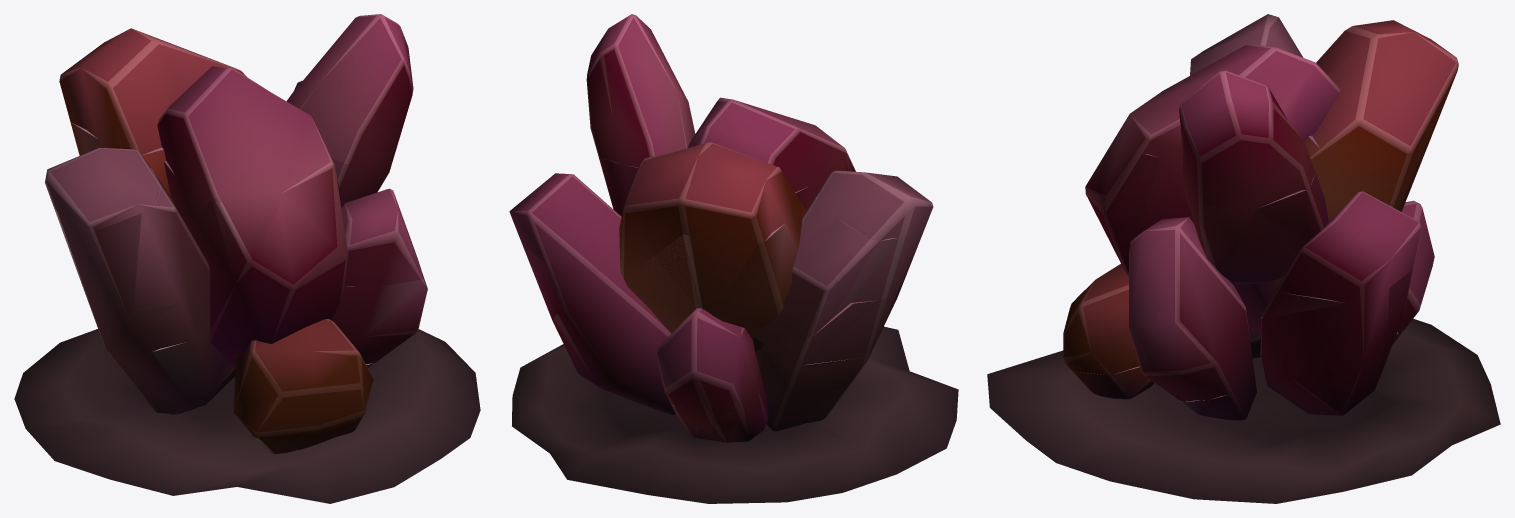
File: Stone_V2_0.fbx
3 renders of one model, left to right at view 1: azimuth 30°, elevation 25°; view 2: azimuth 150°, elevation 25°; view 3: azimuth 270°, elevation 25°, orthographic. The views are drawn at different scales.
Visible parts, largest first — view 1: Stone_V2_0, Stone_V2_1, Stone_V2_2, Stone_V2_3; view 2: Stone_V2_0, Stone_V2_1, Stone_V2_2, Stone_V2_3; view 3: Stone_V2_0, Stone_V2_1, Stone_V2_2, Stone_V2_3.
Boxes of the visible parts, x1,y1,x2,y2 form: Stone_V2_0: [14, 14, 480, 503]; Stone_V2_1: [54, 122, 381, 348]; Stone_V2_2: [79, 254, 427, 347]; Stone_V2_3: [152, 341, 374, 454]; Stone_V2_0: [509, 14, 958, 503]; Stone_V2_1: [600, 153, 905, 373]; Stone_V2_2: [528, 251, 886, 373]; Stone_V2_3: [553, 314, 860, 442]; Stone_V2_0: [987, 14, 1500, 503]; Stone_V2_1: [1105, 74, 1423, 280]; Stone_V2_2: [1135, 270, 1412, 373]; Stone_V2_3: [1071, 317, 1403, 419].
Bounding box in the file's own units: 211 × 179 × 215.
